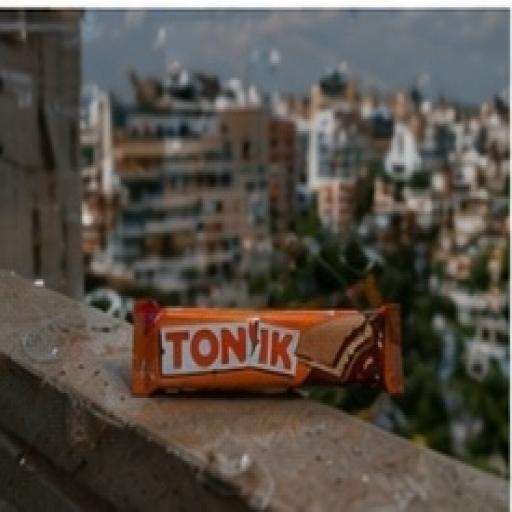tonik: (96, 218, 460, 467)
